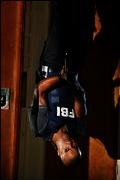gun: (59, 49, 74, 82)
